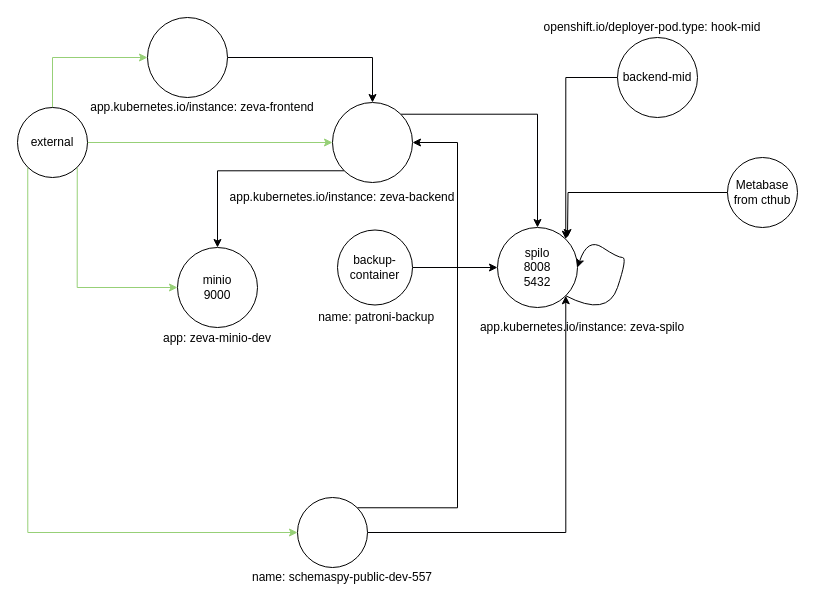
Some shapes in this 815 by 605 pixel diagram are drawn without their labels. The centre of each missing label's shape, as x and y in pixels:
backend 8080: the point at 372,142
frontend 3000 5002: the point at 187,57
schemaspy 8080: the point at 332,532
